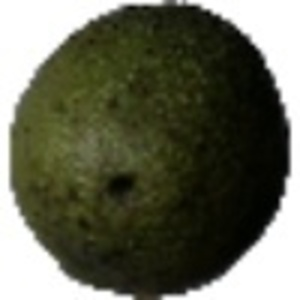abacate: (6, 1, 291, 292)
